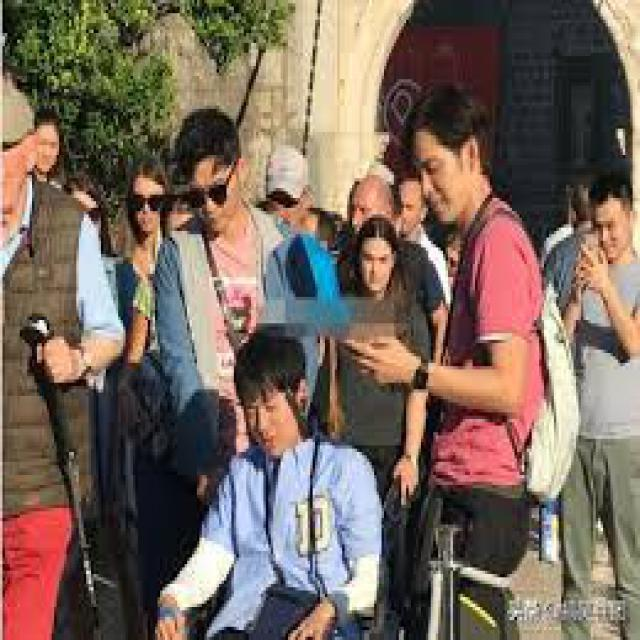wheelchairs: (174, 448, 446, 636)
